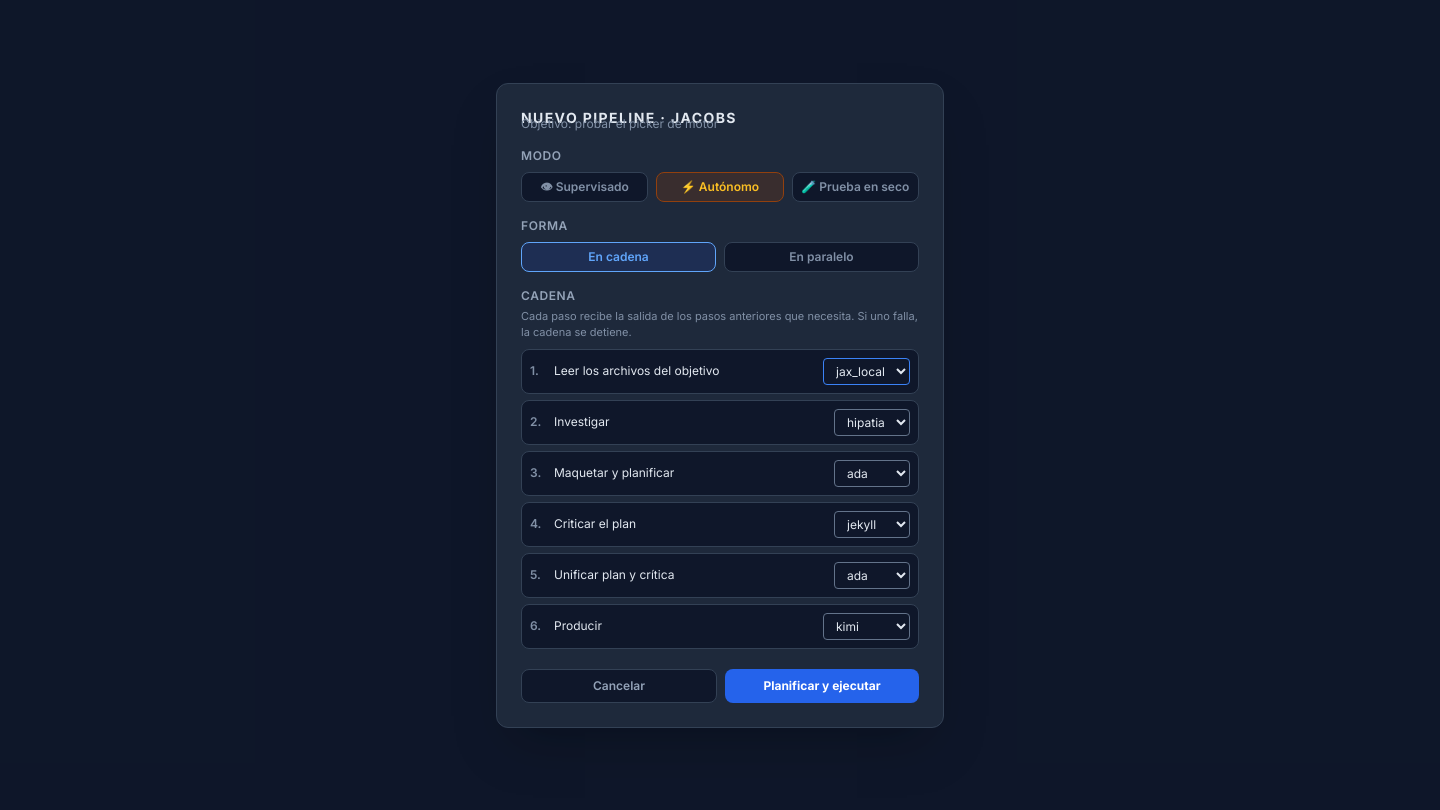
Test: PipelineModal -- cadena en línea › la faceta árbitro (thot) no puede ser productora: avisa incondicionalmente y no deja enviar
The width and height of the screenshot is (1440, 810).
Check: the button "Planificar y ejecutar" is enabled, box [725,668,919,702]
Select "thot" in the dropdown named "Investigar" at (872, 422), box [834,408,910,436]
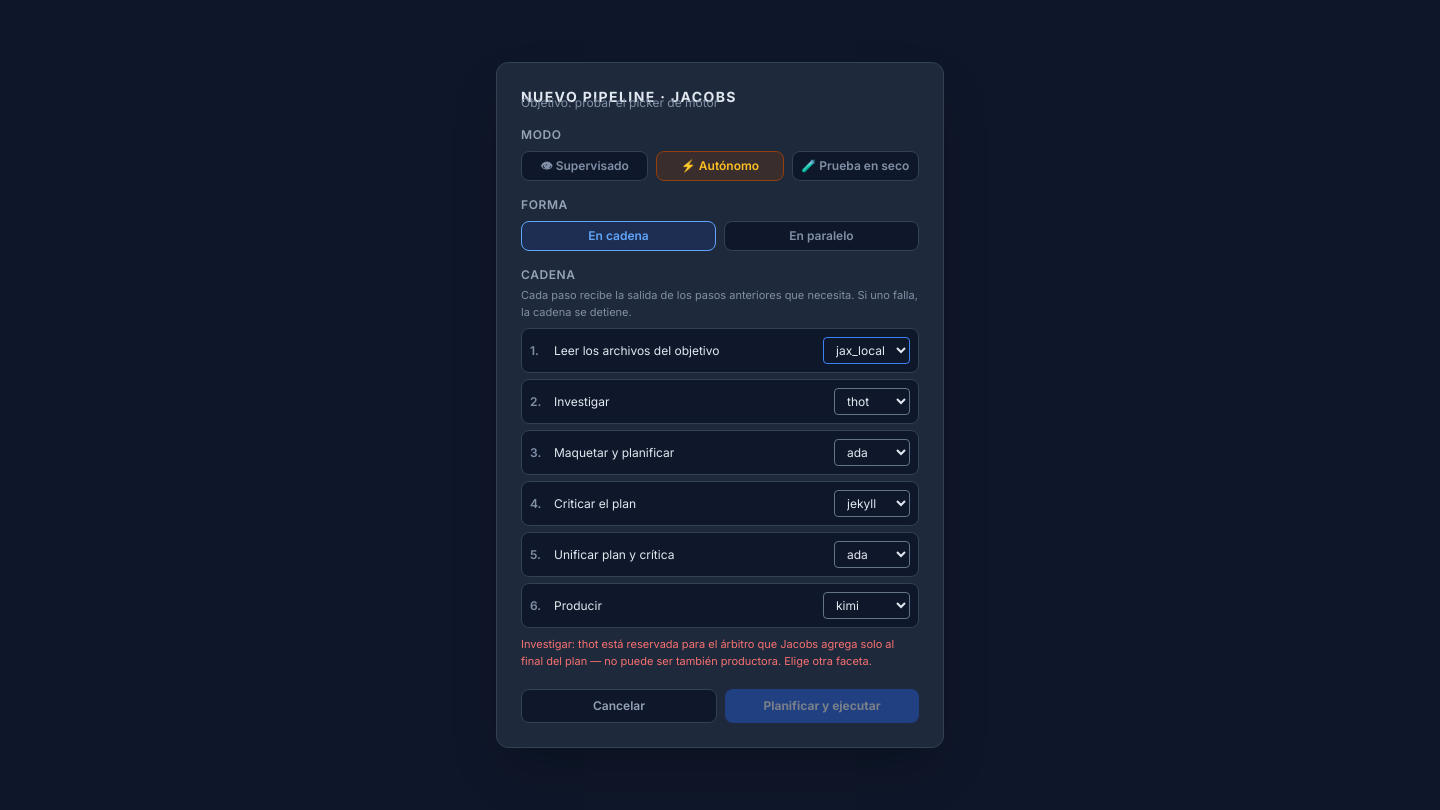
Check: the text "está reservada para el árbitro" is shown, box [521,637,894,668]
Check: the button "Planificar y ejecutar" is disabled, box [725,689,919,723]
